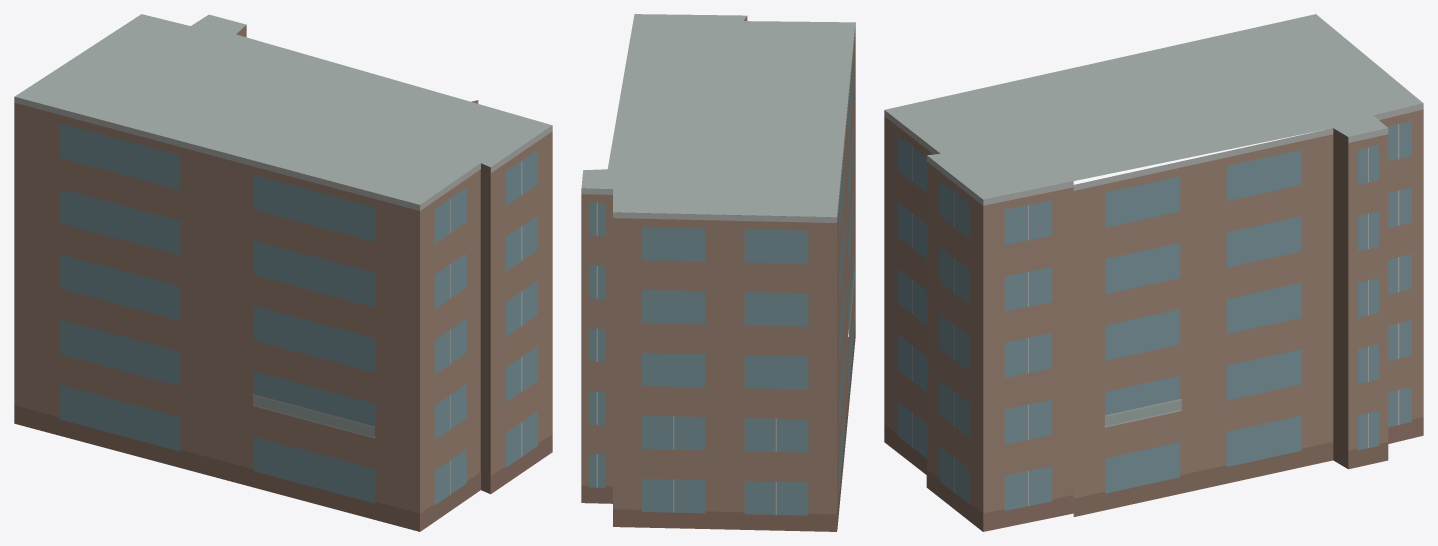
The model's file is survey-upis-32875156.glb.
3 renders of one model, left to right at view 1: azimuth 30°, elevation 25°; view 2: azimuth 150°, elevation 25°; view 3: azimuth 270°, elevation 25°, orthographic. The views are drawn at different scales.
Visible parts, largest first — view 1: survey-upis-32875156.tmp; view 2: survey-upis-32875156.tmp; view 3: survey-upis-32875156.tmp.
Part boxes in pixels (x1=…): survey-upis-32875156.tmp: x1=14, y1=14, x2=552, y2=531; survey-upis-32875156.tmp: x1=581, y1=14, x2=855, y2=531; survey-upis-32875156.tmp: x1=884, y1=14, x2=1423, y2=531.
Bounding box in the file's own units: 15.82 × 13.2 × 19.42.
